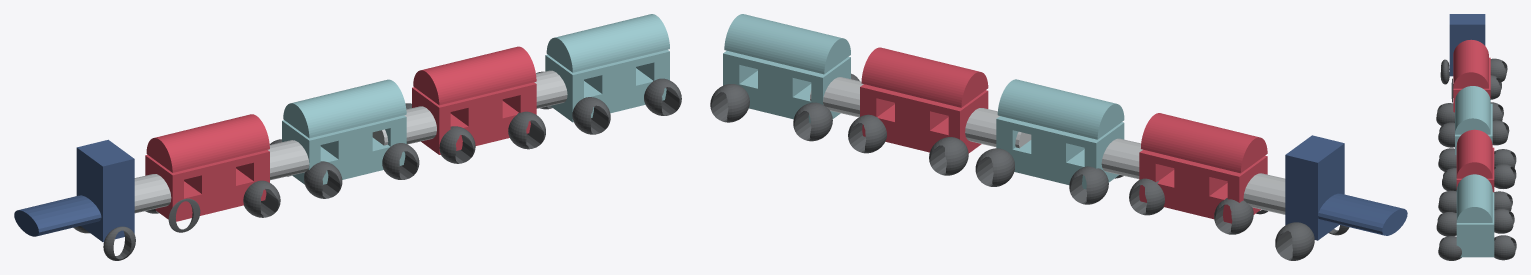
File: train.glb
3 renders of one model, left to right at view 1: azimuth 30°, elevation 25°; view 2: azimuth 150°, elevation 25°; view 3: azimuth 270°, elevation 25°, orthographic. The views are drawn at different scales.
Visible parts, largest first — view 1: Mesh_Mesh_head_geo.001_lambert2SG.001; view 2: Mesh_Mesh_head_geo.001_lambert2SG.001; view 3: Mesh_Mesh_head_geo.001_lambert2SG.001.
Part boxes in pixels (left/top/right/bottom): Mesh_Mesh_head_geo.001_lambert2SG.001: left=14, top=14, right=681, bottom=260; Mesh_Mesh_head_geo.001_lambert2SG.001: left=710, top=14, right=1407, bottom=260; Mesh_Mesh_head_geo.001_lambert2SG.001: left=1436, top=14, right=1516, bottom=260.
Size of the model in its own units: 283 by 40 by 45.01.
